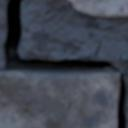brick: (0, 72, 119, 127), (70, 0, 127, 16)
crack: (2, 0, 127, 127)
